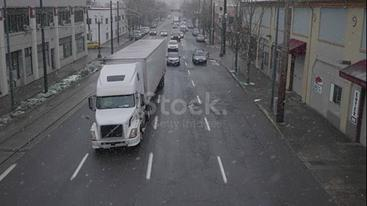car: (191, 45, 210, 66), (164, 50, 183, 68)
truck: (86, 37, 170, 162)
